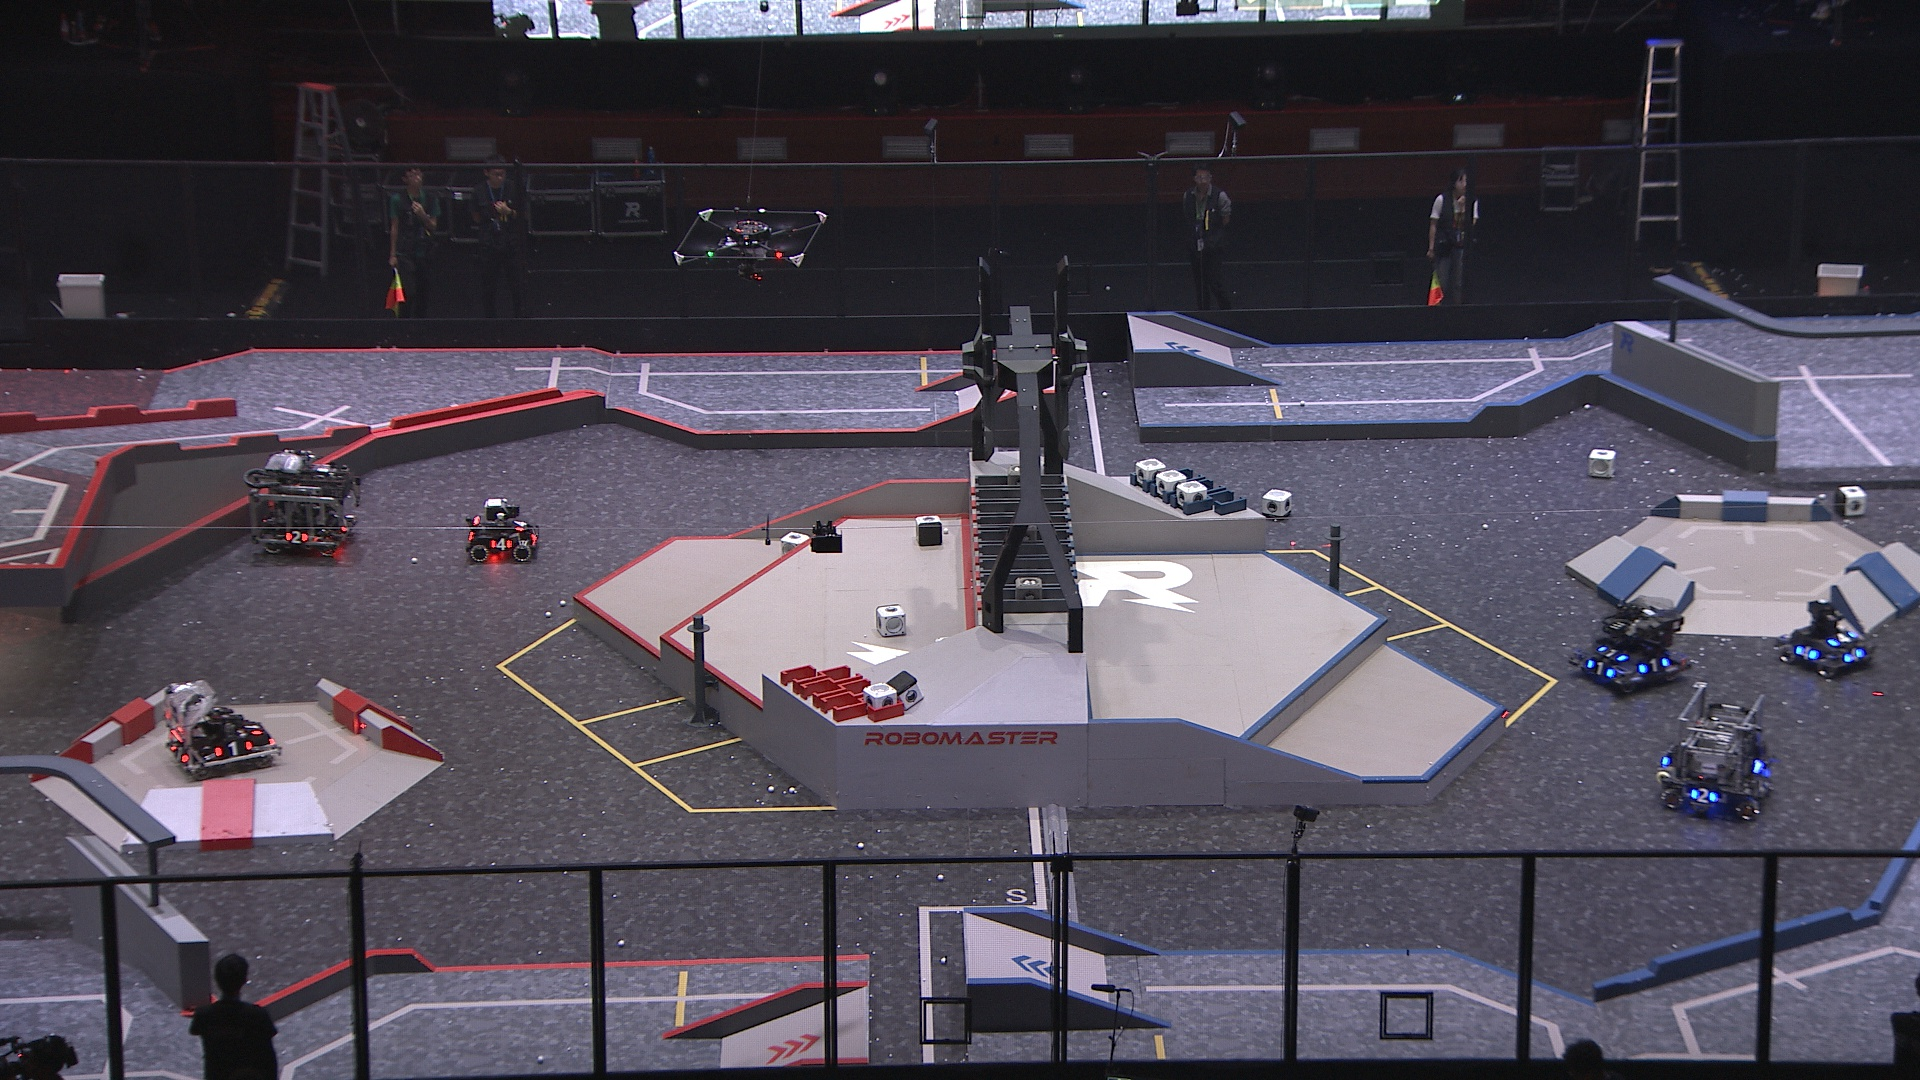armor: (210, 737, 256, 761), (1585, 657, 1618, 680), (1688, 782, 1718, 806), (1636, 655, 1673, 674), (278, 527, 313, 547), (1826, 626, 1858, 647), (237, 716, 266, 738), (1596, 642, 1627, 662), (167, 741, 190, 769), (1792, 644, 1821, 661), (1840, 645, 1865, 665), (489, 535, 513, 555), (338, 513, 353, 535), (512, 514, 527, 534)
car: (1655, 680, 1776, 820), (243, 443, 357, 560), (160, 676, 282, 781), (1569, 593, 1688, 692), (1778, 593, 1875, 679), (463, 495, 541, 564)
